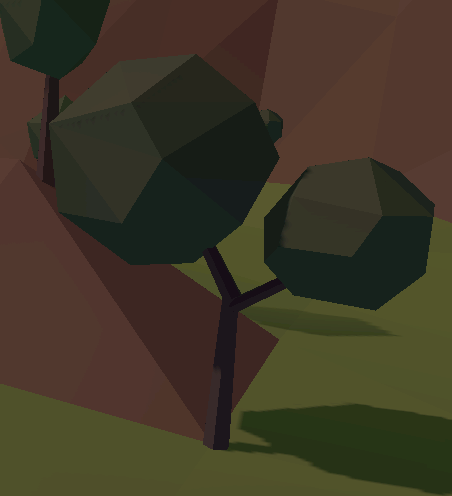tree: (34, 44, 452, 459), (34, 44, 448, 458)
